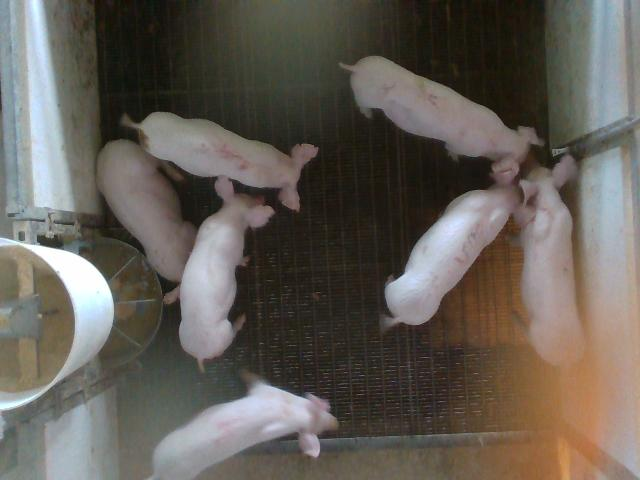pig-3: (381, 156, 534, 328)
pig-4: (152, 372, 338, 479)
pig-5: (121, 112, 318, 211)
